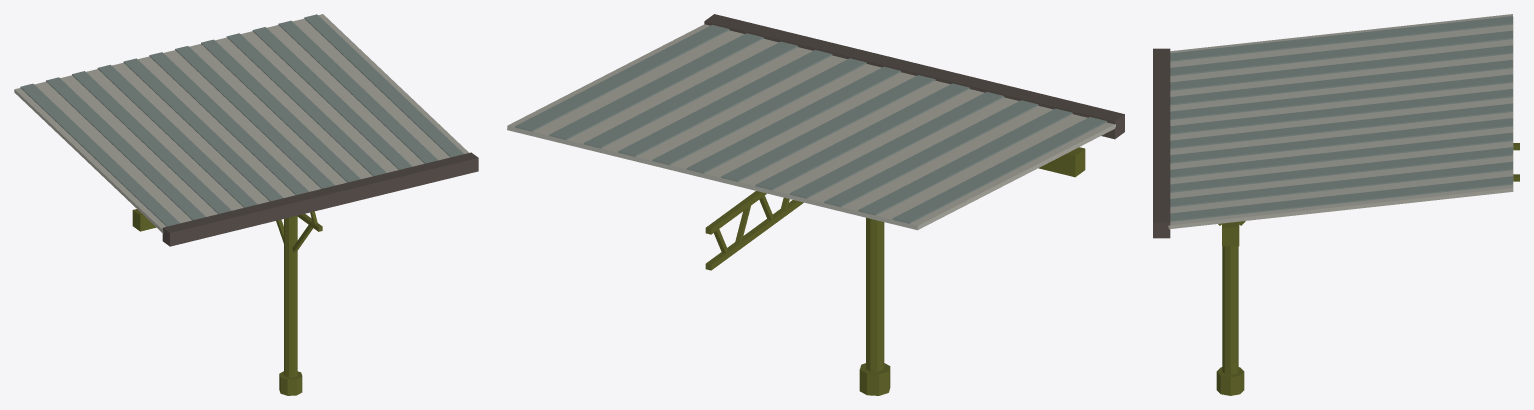
Rendered from SM_KitMarquesina_v0_LOD0.fbx.
3 views of the same model, side by side, from view 1: azimuth 30°, elevation 25°; view 2: azimuth 150°, elevation 25°; view 3: azimuth 270°, elevation 25° (orthographic). The views are drawn at different scales.
Visible parts, largest first — view 1: SM_bloques.kit_marquesina_v0_LOD0; view 2: SM_bloques.kit_marquesina_v0_LOD0; view 3: SM_bloques.kit_marquesina_v0_LOD0.
Part boxes in pixels (x1,y1,x2,y2): SM_bloques.kit_marquesina_v0_LOD0: [14, 14, 478, 395]; SM_bloques.kit_marquesina_v0_LOD0: [507, 14, 1124, 395]; SM_bloques.kit_marquesina_v0_LOD0: [1153, 14, 1519, 395].
Bounding box in the file's own units: 5.98 × 4.65 × 5.32.
